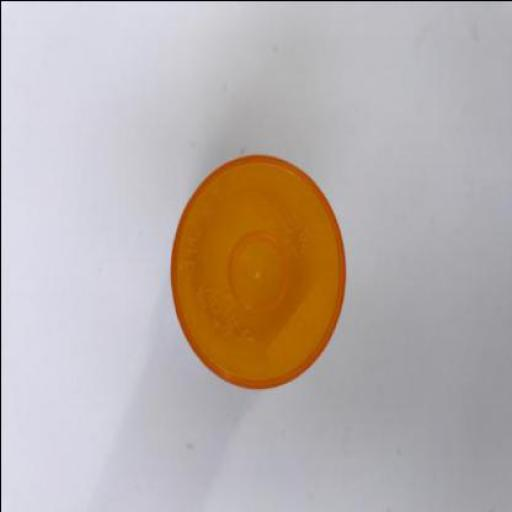plastic: (169, 155, 344, 389)
